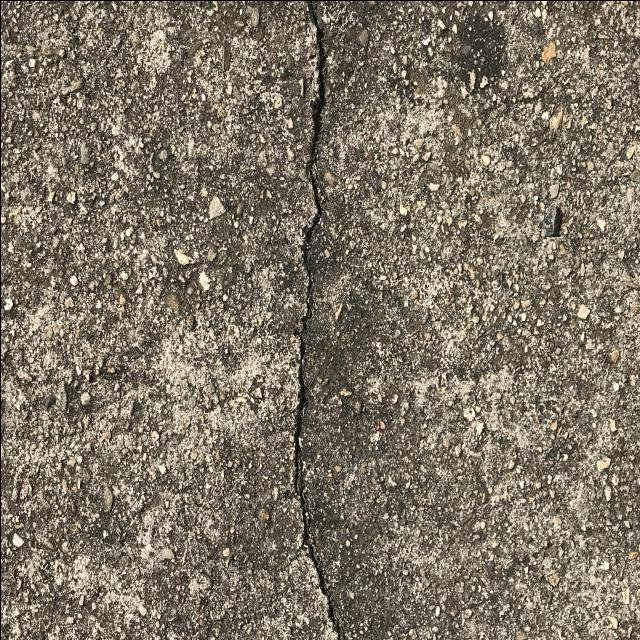SurfaceCrack: (224, 1, 399, 639)
